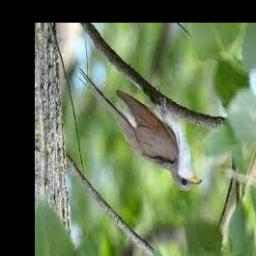Cuckoo: (76, 68, 203, 191)
